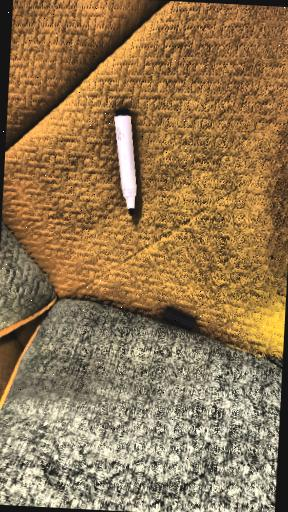marcador negro: (115, 109, 136, 215)
